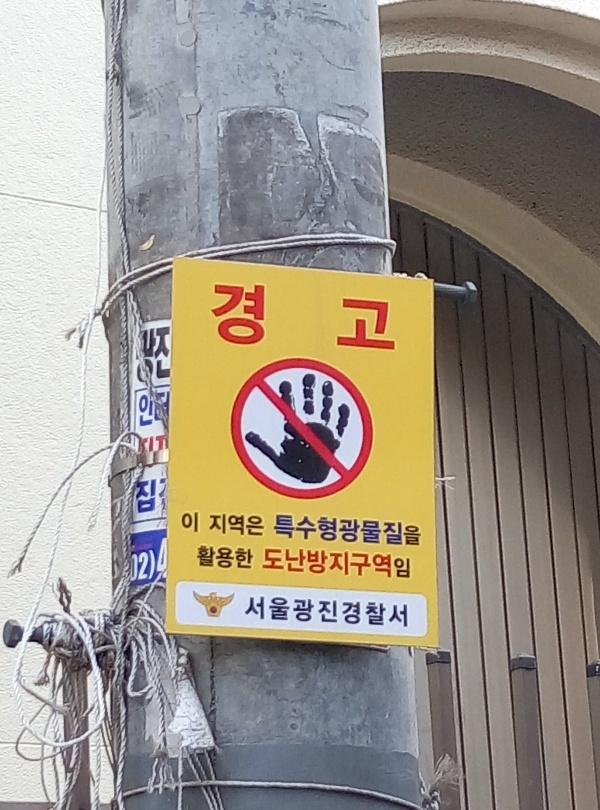text: (209, 277, 224, 359), (225, 277, 240, 359), (241, 277, 256, 359), (257, 277, 272, 359), (273, 277, 288, 359), (289, 277, 304, 359), (305, 277, 320, 359), (321, 277, 336, 359), (337, 277, 352, 359), (353, 277, 368, 359), (369, 277, 384, 359), (385, 277, 398, 359), (145, 323, 160, 380), (145, 535, 160, 584), (161, 323, 173, 380), (131, 535, 144, 584), (257, 592, 272, 630), (273, 592, 288, 630), (289, 592, 304, 630), (305, 592, 320, 630), (321, 592, 336, 630), (337, 592, 352, 630), (353, 592, 368, 630), (369, 592, 384, 630), (385, 592, 400, 630), (145, 391, 160, 428), (273, 513, 288, 549), (289, 513, 304, 549), (305, 513, 320, 549), (321, 513, 336, 549), (337, 513, 352, 549), (353, 513, 368, 549), (369, 513, 384, 549), (385, 513, 400, 549), (401, 513, 416, 549), (273, 546, 288, 581), (289, 546, 304, 581), (305, 546, 320, 581), (321, 546, 336, 581), (337, 546, 352, 581), (353, 546, 368, 581), (369, 546, 384, 581), (385, 546, 400, 581), (135, 323, 144, 380), (145, 477, 157, 515), (209, 542, 224, 571), (225, 542, 240, 571), (241, 542, 255, 571), (135, 345, 144, 389), (225, 513, 240, 537), (241, 513, 256, 537), (401, 546, 411, 581), (196, 542, 208, 571), (161, 535, 168, 584), (210, 513, 224, 537), (417, 513, 426, 549), (161, 388, 170, 424), (161, 477, 168, 522), (401, 592, 409, 630), (136, 477, 144, 515), (181, 510, 192, 534), (265, 546, 272, 581), (145, 435, 160, 451), (250, 592, 256, 630), (130, 540, 144, 556), (138, 391, 144, 428), (257, 513, 266, 537), (145, 345, 149, 389), (193, 510, 199, 534), (145, 540, 154, 556), (157, 388, 160, 424), (138, 435, 144, 451), (207, 277, 208, 359), (161, 435, 166, 451), (161, 391, 163, 428), (159, 477, 160, 522)
